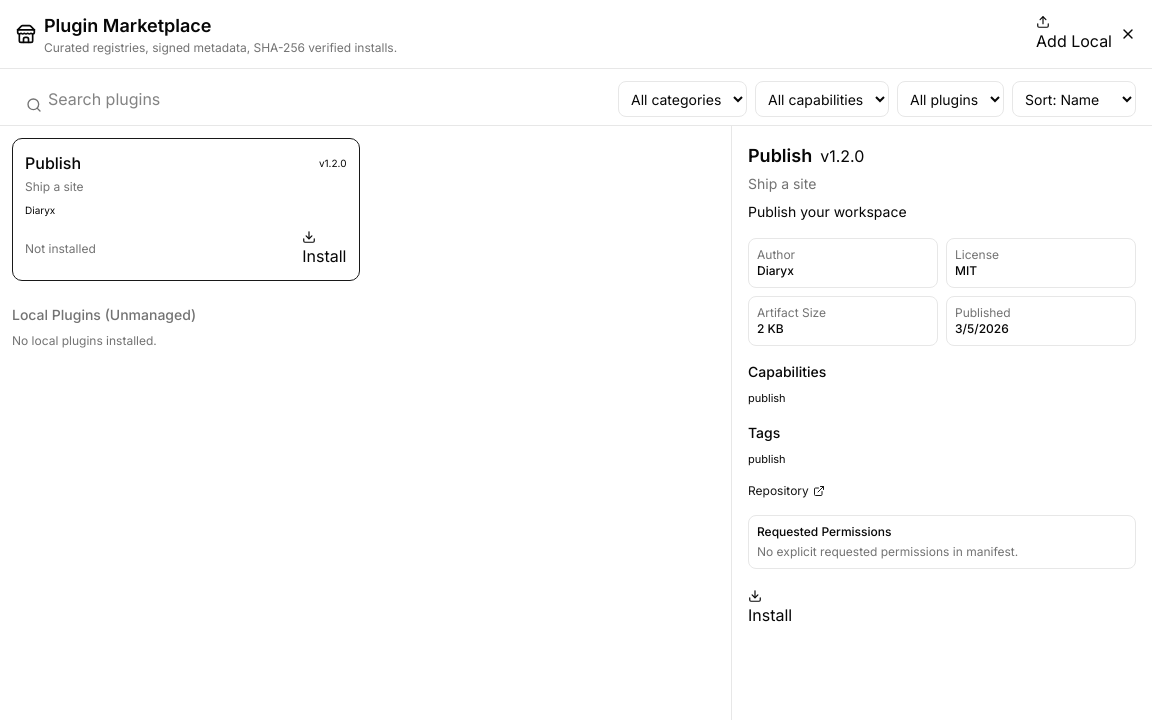
Scenario: PluginMarketplace › loads the registry and filters plugins by search text
The image size is (1152, 720).
Expected: the number of headings "Publish" is 2, top-left (25, 151), bottom-right (81, 175); top-left (748, 142), bottom-right (812, 170)
Type "missing" into the field with placeholder "Search plugins" at (149, 99), box top-left (16, 87), bottom-right (282, 111)
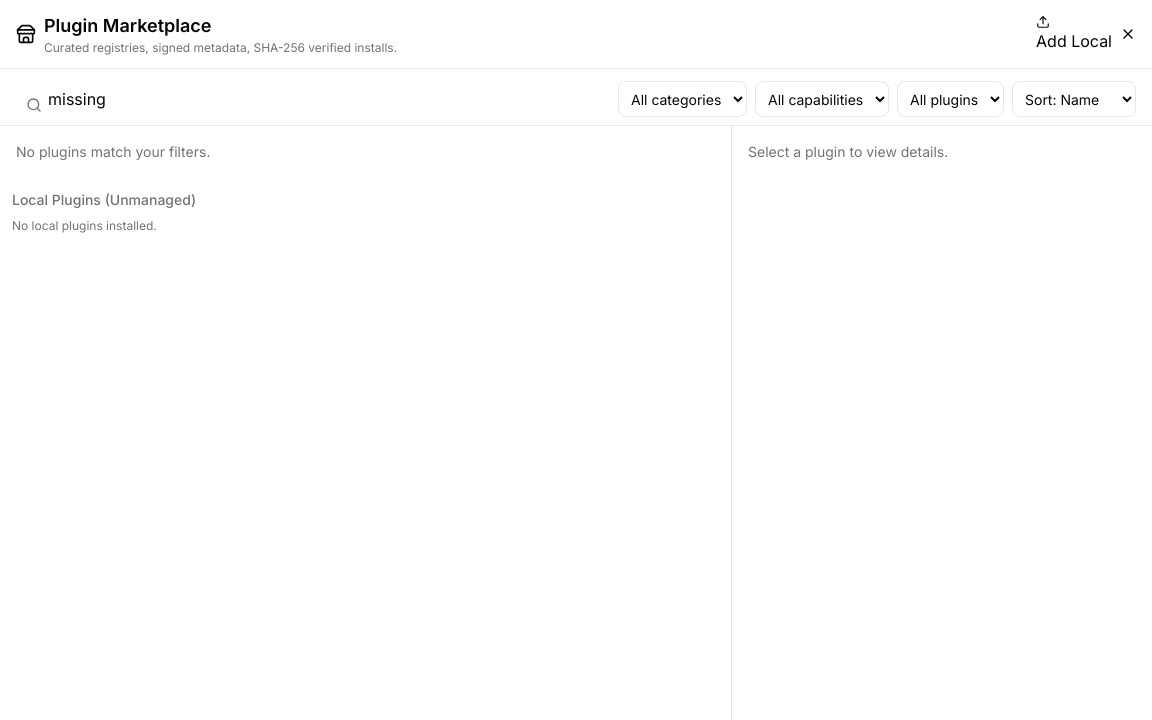
Expected: the text "No plugins match your filters." is shown, top-left (16, 143), bottom-right (210, 160)
